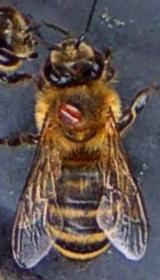varroa_mite: (54, 93, 88, 134)
